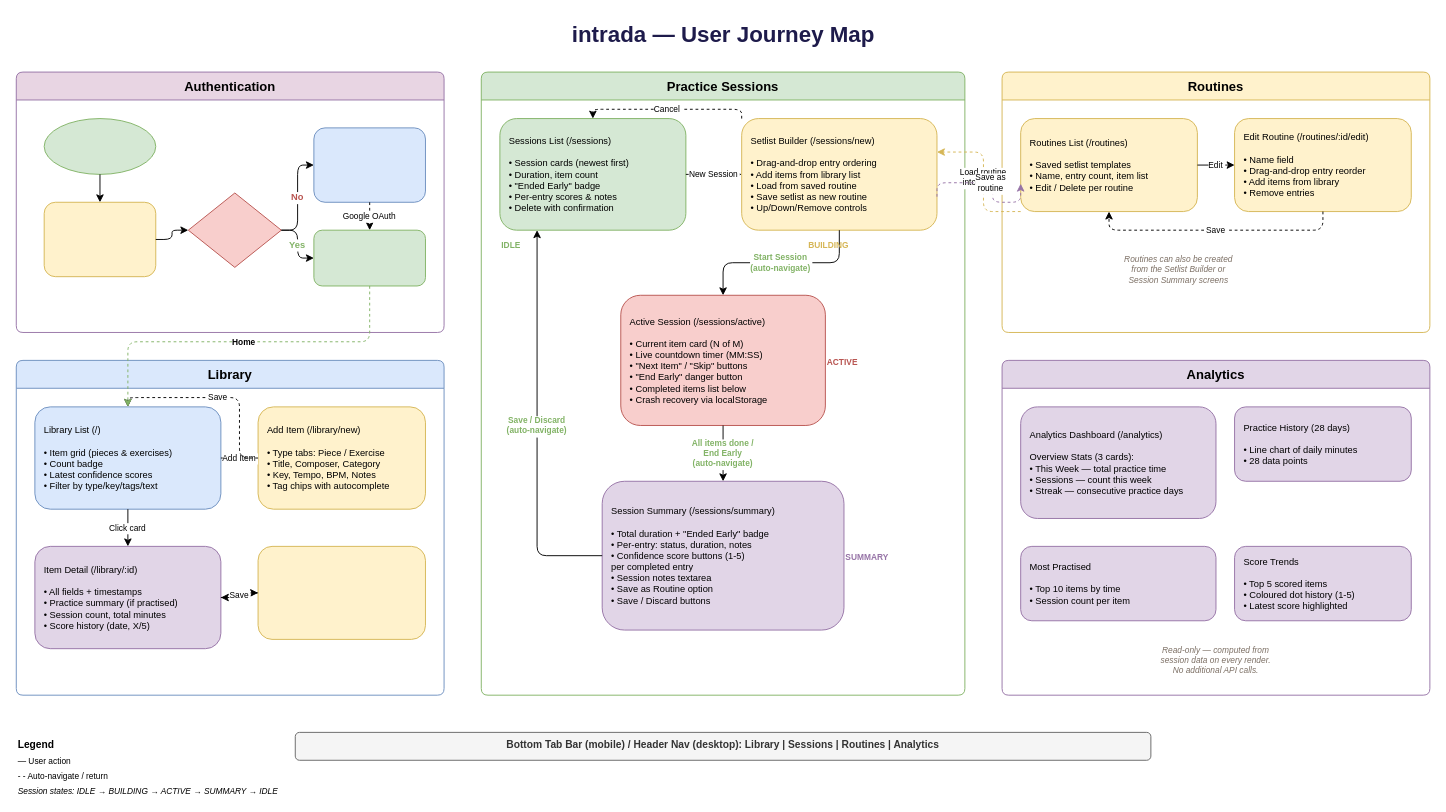
The diagram is 1446 pixels wide and 812 high, and some of its shapes have lost their labels. Here are the shapes that lost their labels. From the top down, the centre of each, then its label:
point 99,146: User visits myintrada.com
point 369,164: Sign-In Screen "Sign in with Google" via Clerk OAuth
point 99,239: Loading Screen Polls for Clerk.js (up to 5 seconds)
point 234,229: Signed in?
point 369,257: Authenticated App Shell
point 341,592: Edit Item (/library/:id/edit) • Same form as Add • Pre-populated fields
